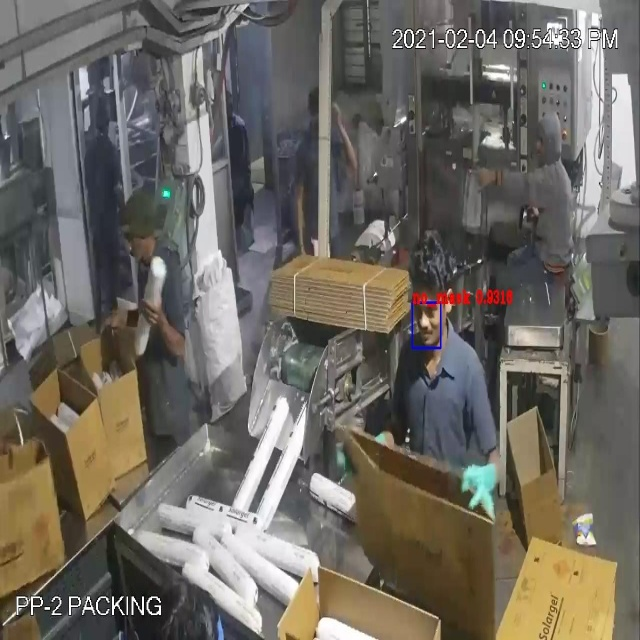Guantes: (445, 452, 505, 520)
Sin_guantes: (136, 293, 197, 375), (331, 79, 359, 181), (289, 176, 317, 276)
